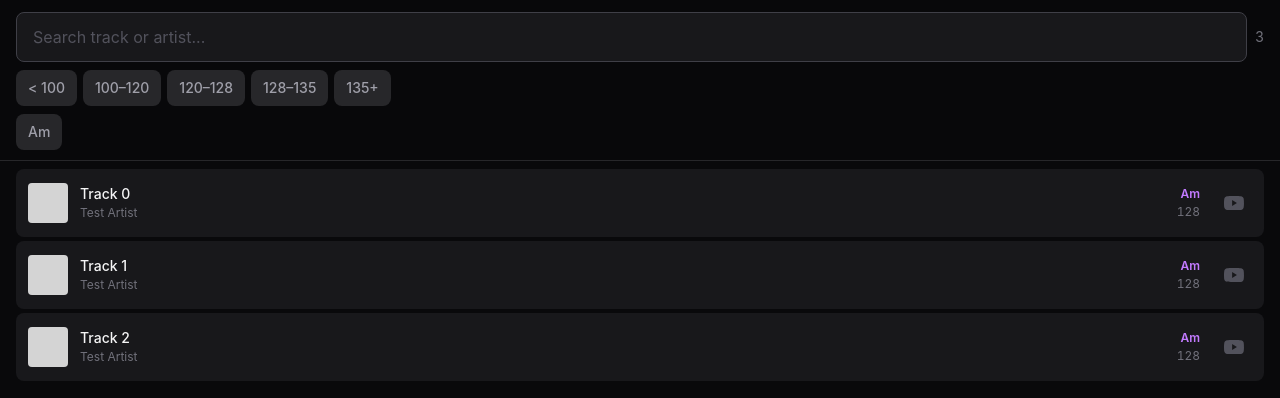
it: App — search › clear ✕ button resets search
In the field with placeholder "Search track or artist...": (631, 37) [16,12,1247,62], type "zzz"
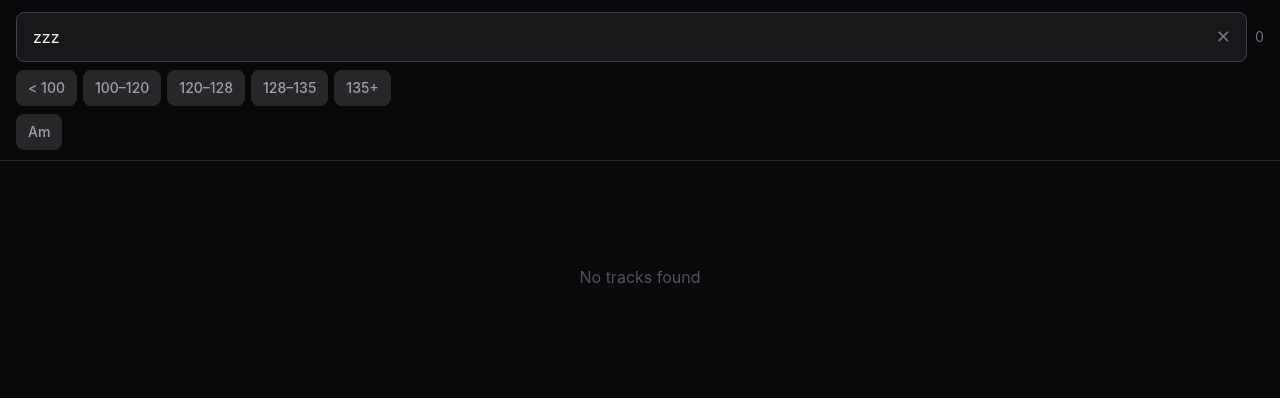
Click the button "✕": (1223, 37) [1212,24,1235,50]
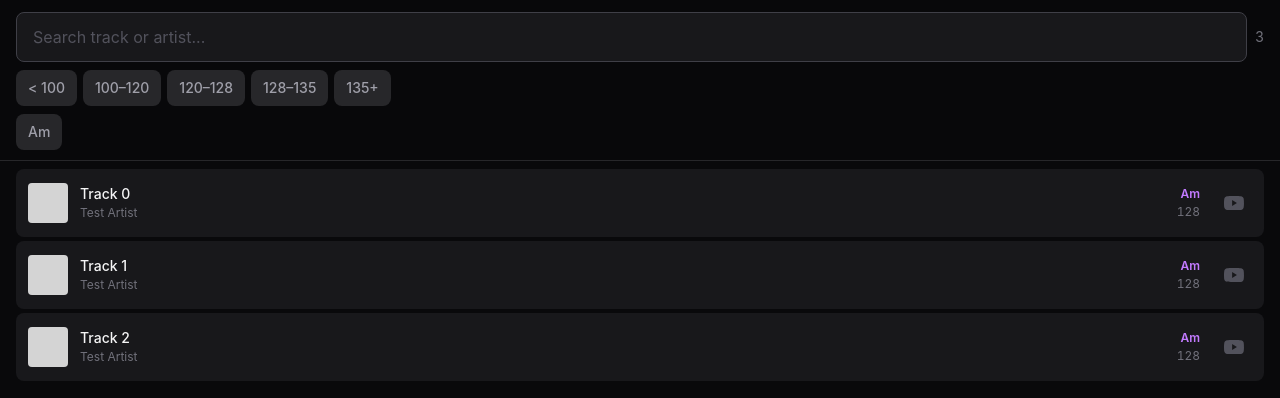
Expected: the number of "TrackCard" components is 3, [16,169,1264,237]; [16,241,1264,309]; [16,313,1264,381]
